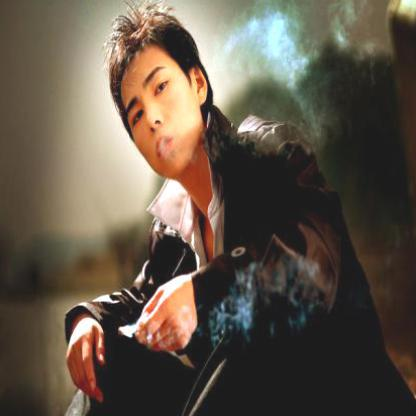person: (54, 10, 348, 412)
smoke: (240, 9, 314, 92), (214, 293, 252, 337)
